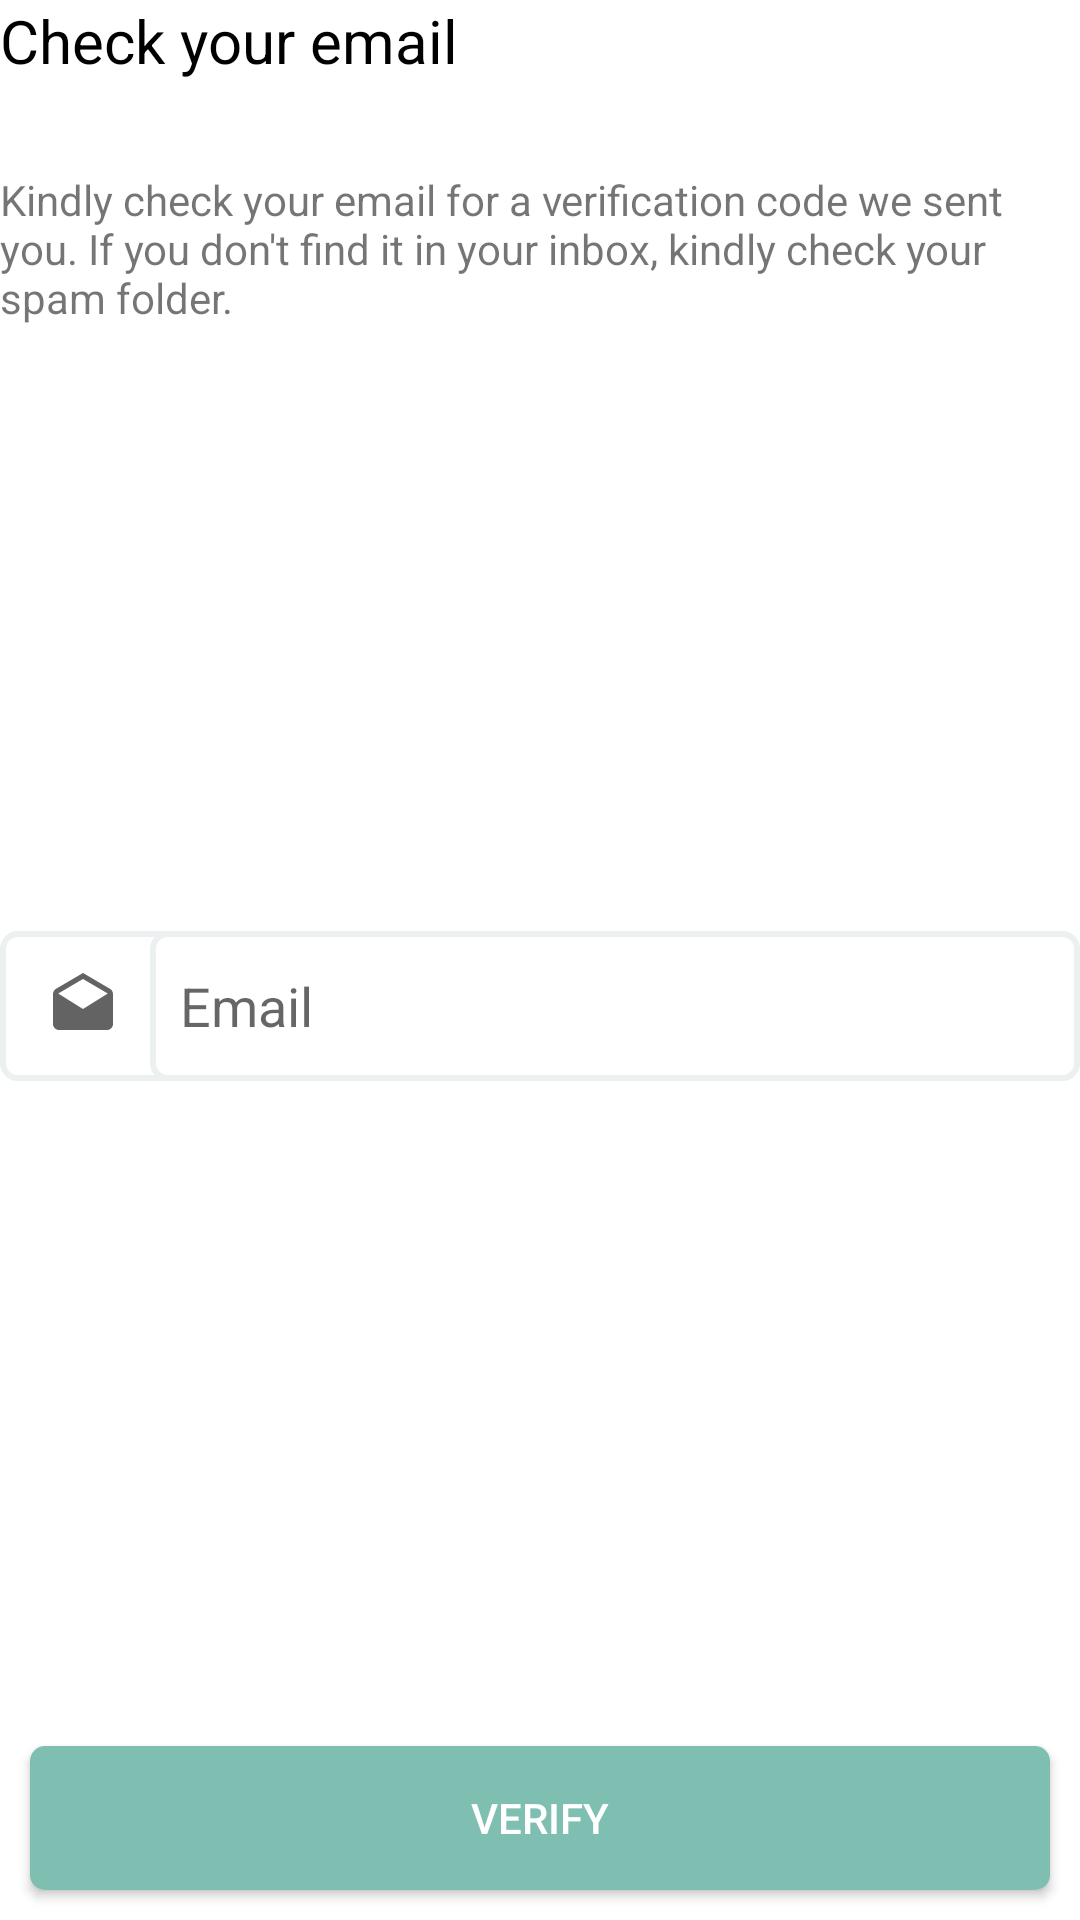

Locate icon controls on the screen. Image size 1080px x 1920px, boxes as rect(x1, y1, x2, y2).
drafts: rect(53, 973, 113, 1030)
